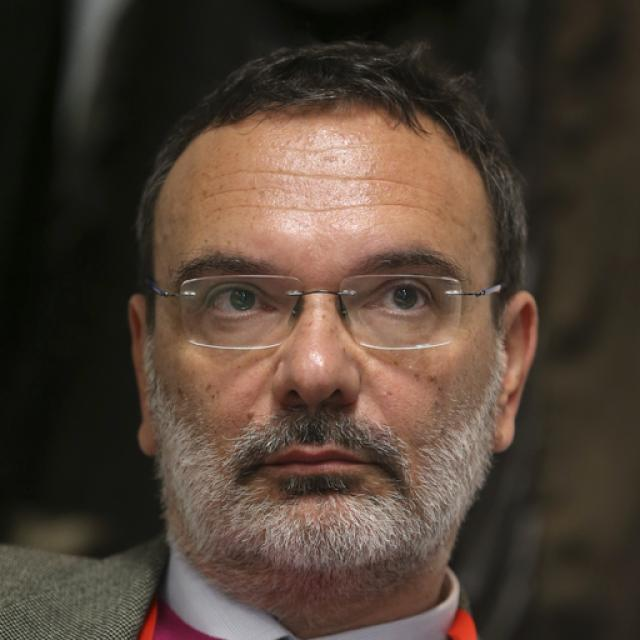neutral: (156, 112, 499, 584)
